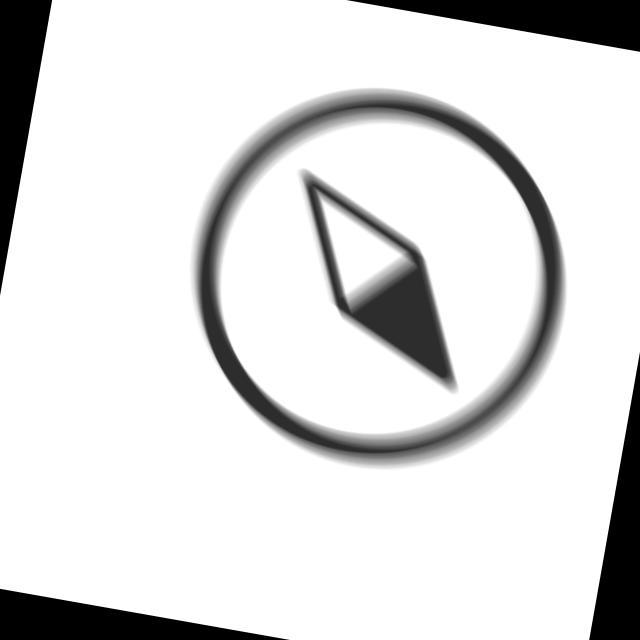compass: (153, 54, 603, 504)
